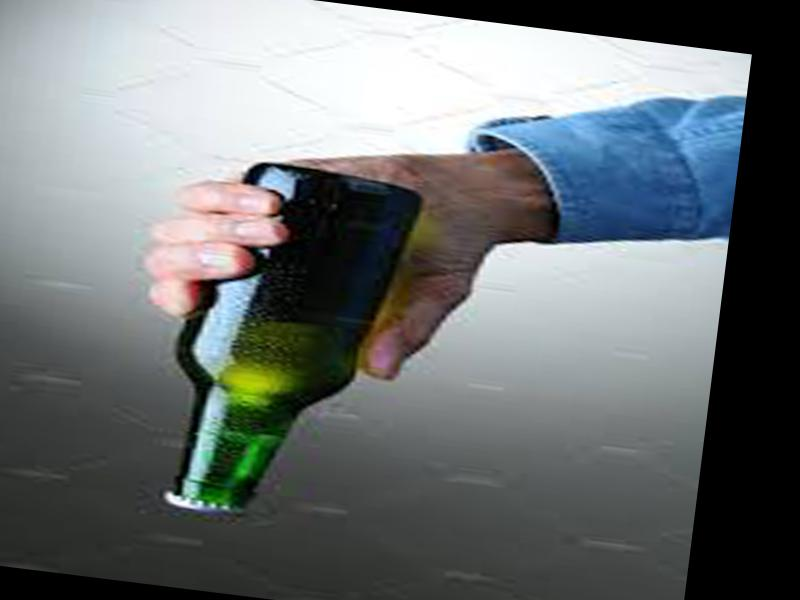Beer: (158, 152, 428, 538)
